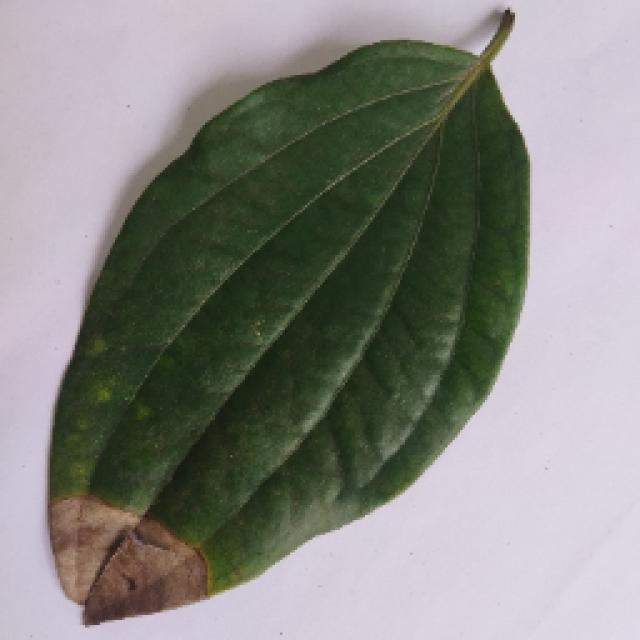footrot: (45, 15, 525, 625)
